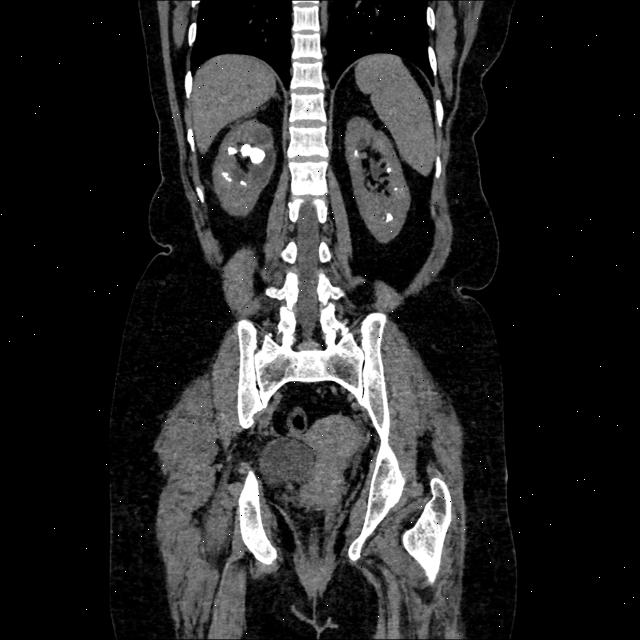kidneystone: (240, 144, 265, 164), (228, 147, 238, 156), (385, 213, 394, 221)
